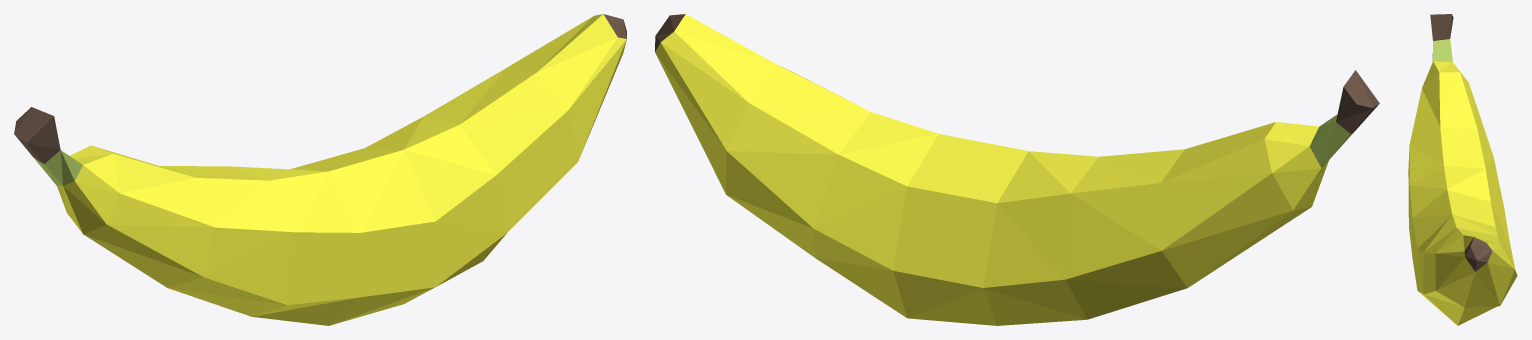
File: banana.fbx
3 views of the same model, side by side, from view 1: azimuth 30°, elevation 25°; view 2: azimuth 150°, elevation 25°; view 3: azimuth 270°, elevation 25° (orthographic). The views are drawn at different scales.
Visible parts, largest first — view 1: banana; view 2: banana; view 3: banana.
Part boxes in pixels (bbox=[...]): banana: bbox=[14, 14, 626, 325]; banana: bbox=[655, 14, 1379, 325]; banana: bbox=[1408, 14, 1517, 325].
Bounding box in the file's own units: 3.45 × 1.5 × 0.8073.
